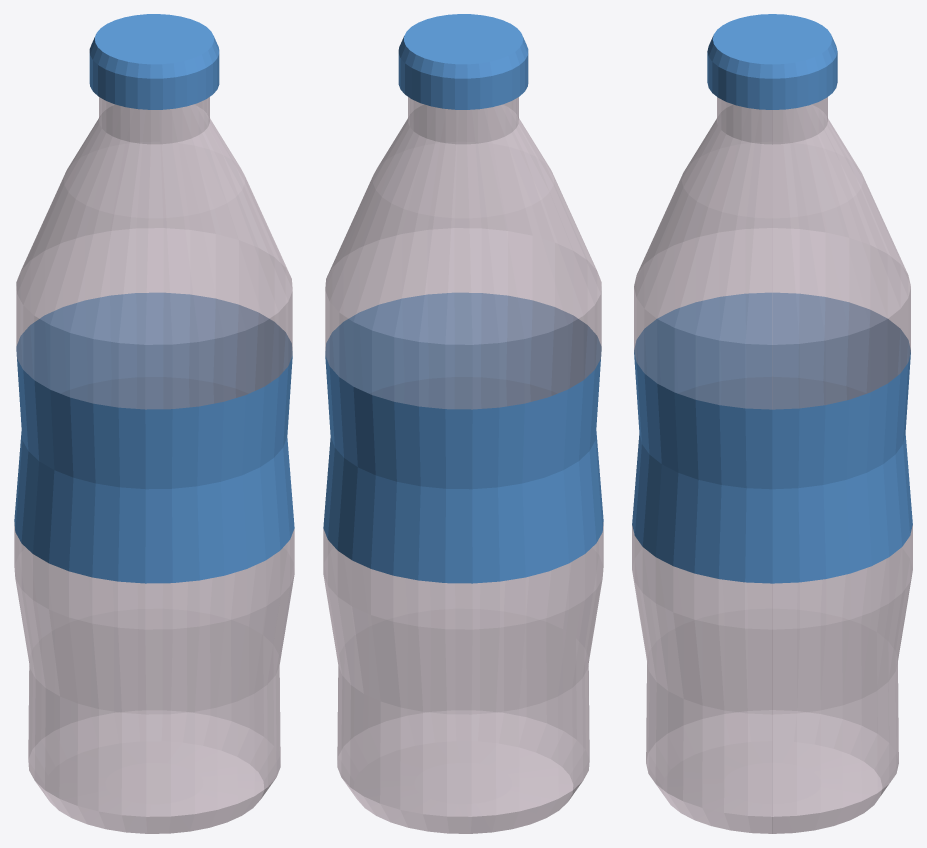
Rendered from Bottle.glb.
3 renders of one model, left to right at view 1: azimuth 30°, elevation 25°; view 2: azimuth 150°, elevation 25°; view 3: azimuth 270°, elevation 25°, orthographic.
Visible parts, largest first — view 1: Cylinder; view 2: Cylinder; view 3: Cylinder.
Part boxes in pixels (x1=…): Cylinder: x1=14, y1=14, x2=294, y2=833; Cylinder: x1=323, y1=14, x2=603, y2=833; Cylinder: x1=632, y1=14, x2=912, y2=833.
Size of the model in its own units: 0.2867 by 0.843 by 0.2867.
